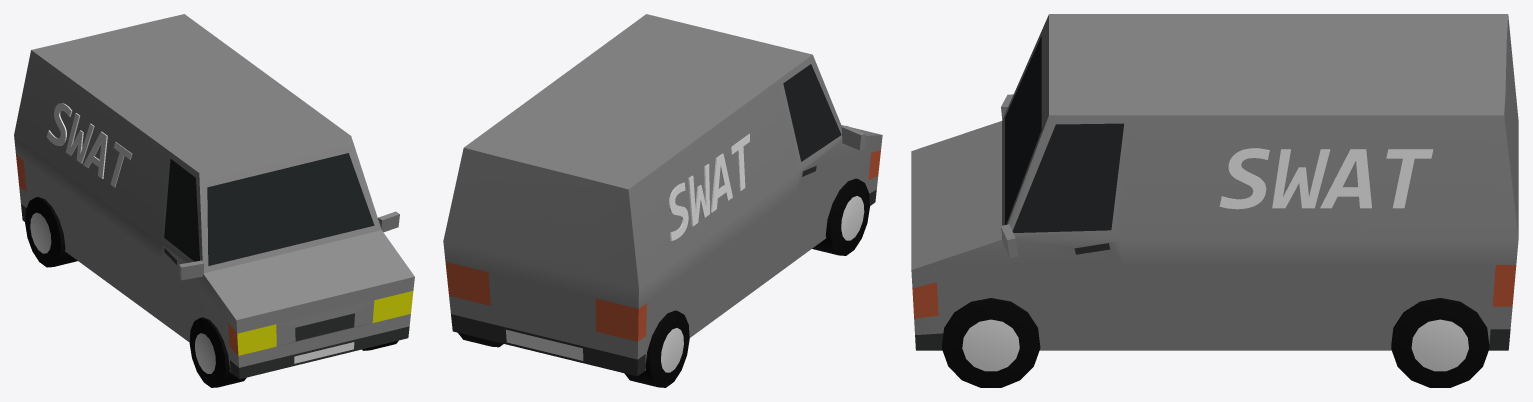
The model's file is SWATVan.fbx.
3 renders of one model, left to right at view 1: azimuth 30°, elevation 25°; view 2: azimuth 150°, elevation 25°; view 3: azimuth 270°, elevation 25°, orthographic. The views are drawn at different scales.
Visible parts, largest first — view 1: pCube4, WheelRL4, WheelRL2, Trim_Text_SWAT_1_4, pCube3; view 2: pCube4, WheelRL2, WheelRL4, Trim_Text_SWAT_1_4, pCube3; view 3: pCube4, WheelRL1, WheelRL3, Trim_Text_SWAT_1_4.
Part boxes in pixels (box(x1,y1,x2,y2)): pCube4: box(14, 14, 414, 378); WheelRL4: box(189, 317, 246, 387); WheelRL2: box(25, 197, 77, 267); Trim_Text_SWAT_1_4: box(46, 103, 132, 187); pCube3: box(179, 260, 203, 280); pCube4: box(443, 14, 882, 376); WheelRL2: box(624, 310, 689, 387); WheelRL4: box(812, 178, 869, 255); Trim_Text_SWAT_1_4: box(668, 133, 749, 240); pCube3: box(841, 125, 865, 150); pCube4: box(911, 14, 1518, 350); WheelRL1: box(1391, 298, 1489, 387); WheelRL3: box(942, 298, 1040, 387); Trim_Text_SWAT_1_4: box(1219, 148, 1433, 209).
Size of the model in its own units: 3.56 by 3.01 by 6.28.
